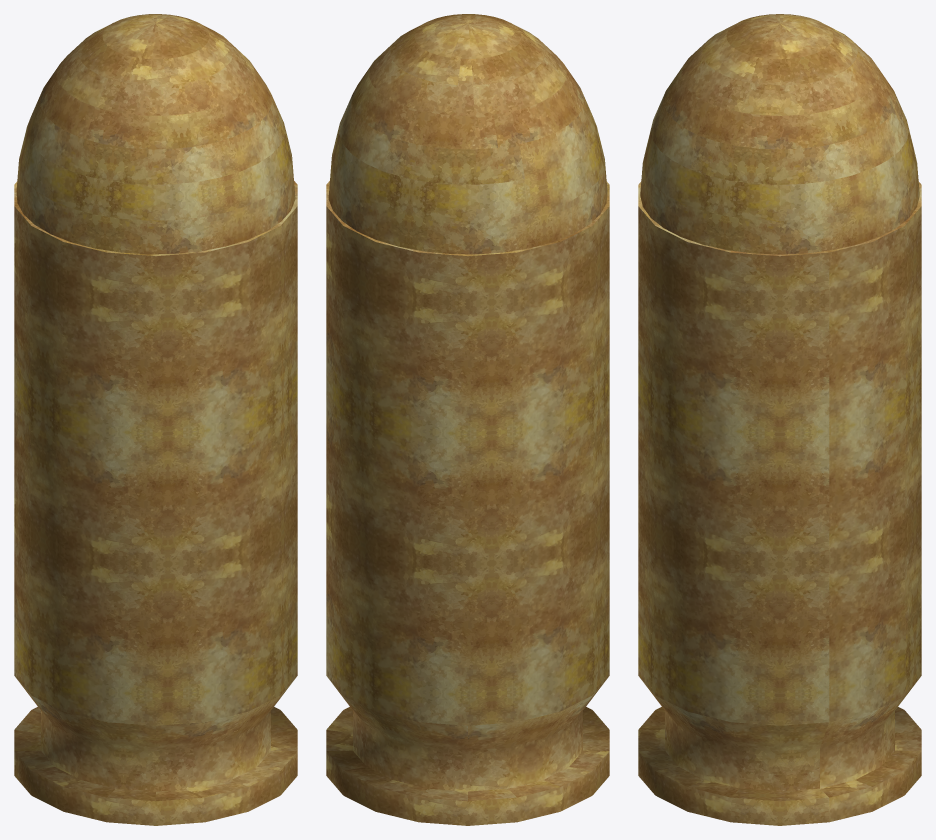
The model's file is bullet.fbx.
The picture shows the model from 3 angles, left to right: view 1: azimuth 30°, elevation 25°; view 2: azimuth 150°, elevation 25°; view 3: azimuth 270°, elevation 25°; orthographic projection.
Parts seen in each view (by area): view 1: Bullet; view 2: Bullet; view 3: Bullet.
Boxes of the visible parts, bbox=[...] form: Bullet: bbox=[14, 14, 297, 825]; Bullet: bbox=[326, 14, 609, 825]; Bullet: bbox=[638, 14, 921, 825].
Bounding box in the file's own units: 2 × 5.7 × 1.97.
3 materials, 3 textured.
